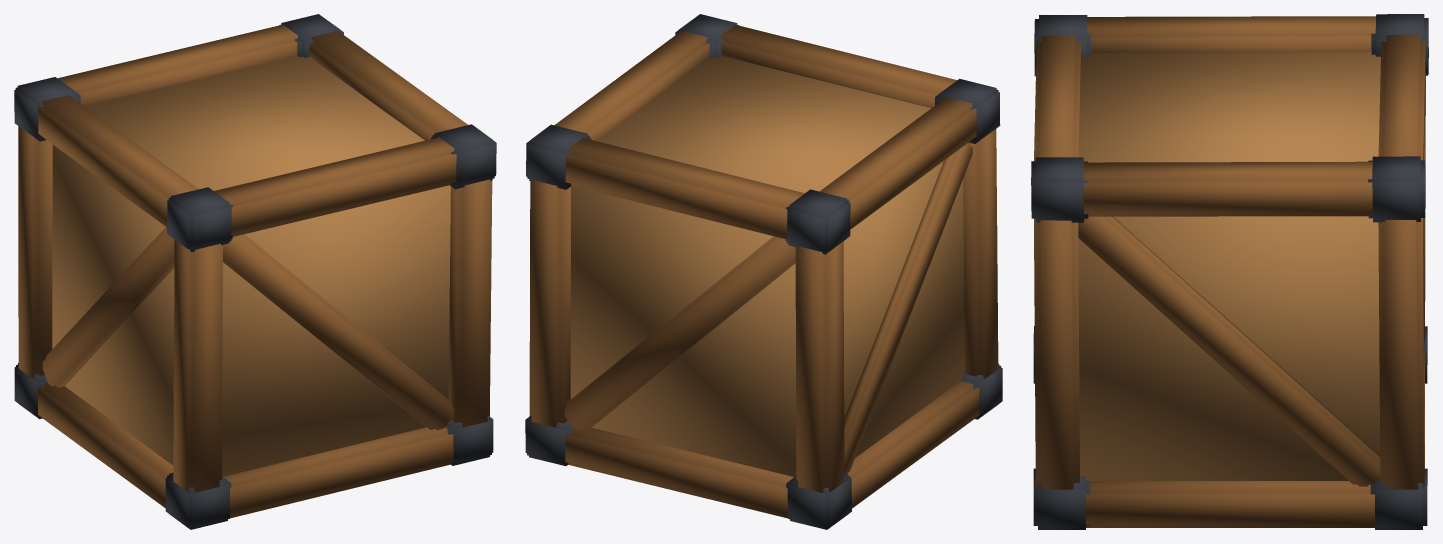
The model's file is prop_crate.glb.
3 views of the same model, side by side, from view 1: azimuth 30°, elevation 25°; view 2: azimuth 150°, elevation 25°; view 3: azimuth 270°, elevation 25° (orthographic). The views are drawn at different scales.
Visible parts, largest first — view 1: prop_crate; view 2: prop_crate; view 3: prop_crate.
Boxes of the visible parts, bbox=[...] form: prop_crate: bbox=[14, 14, 496, 529]; prop_crate: bbox=[525, 14, 1002, 529]; prop_crate: bbox=[1031, 14, 1428, 529].
Size of the model in its own units: 0.7322 by 0.72 by 0.7345.
